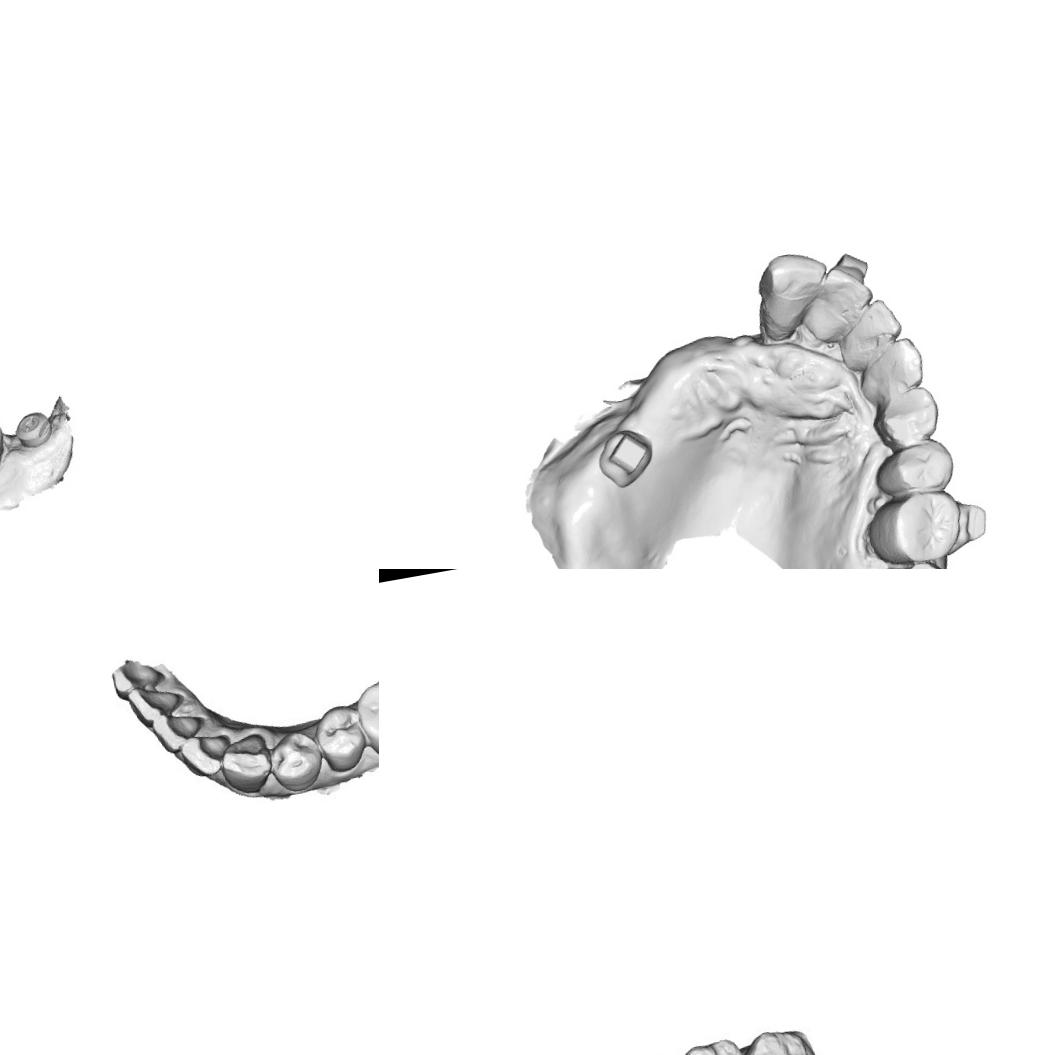canine: (750, 243, 835, 326), (864, 380, 946, 455), (215, 731, 274, 794)
implant_minus: (11, 407, 56, 451)
incisor: (798, 260, 880, 342), (849, 332, 930, 407), (840, 293, 908, 363), (150, 704, 211, 755), (125, 680, 184, 723), (179, 732, 227, 779)
molar: (860, 483, 970, 569), (349, 661, 379, 762), (739, 1021, 820, 1055), (670, 1035, 753, 1055)
premolar: (867, 434, 960, 505), (309, 698, 373, 776), (264, 728, 324, 794)
